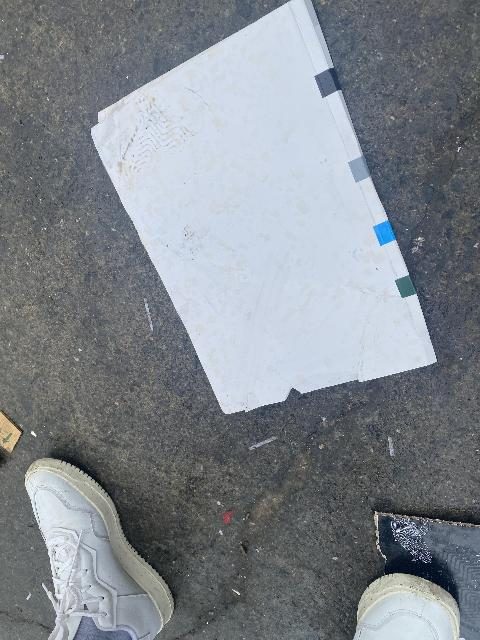Kagit: (91, 2, 437, 416), (0, 406, 23, 456)
